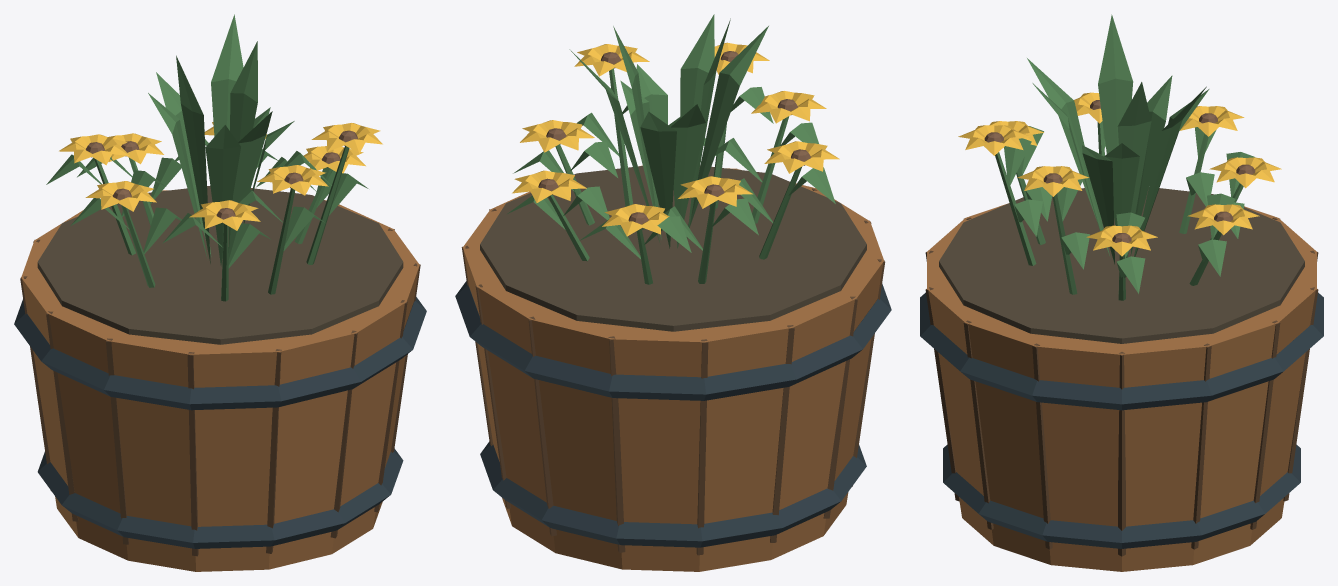
Rendered from b08_whiskey_barrel_flowers.glb.
The picture shows the model from 3 angles, left to right: view 1: azimuth 30°, elevation 25°; view 2: azimuth 150°, elevation 25°; view 3: azimuth 270°, elevation 25°; orthographic projection. The views are drawn at different scales.
Visible parts, largest first — view 1: b08_whiskey_barrel_flowers; view 2: b08_whiskey_barrel_flowers; view 3: b08_whiskey_barrel_flowers.
Part boxes in pixels (x1,y1,x2,y2): b08_whiskey_barrel_flowers: [14, 14, 426, 571]; b08_whiskey_barrel_flowers: [455, 14, 891, 571]; b08_whiskey_barrel_flowers: [920, 14, 1323, 571].
Size of the model in its own units: 0.808 by 1 by 0.7877.
